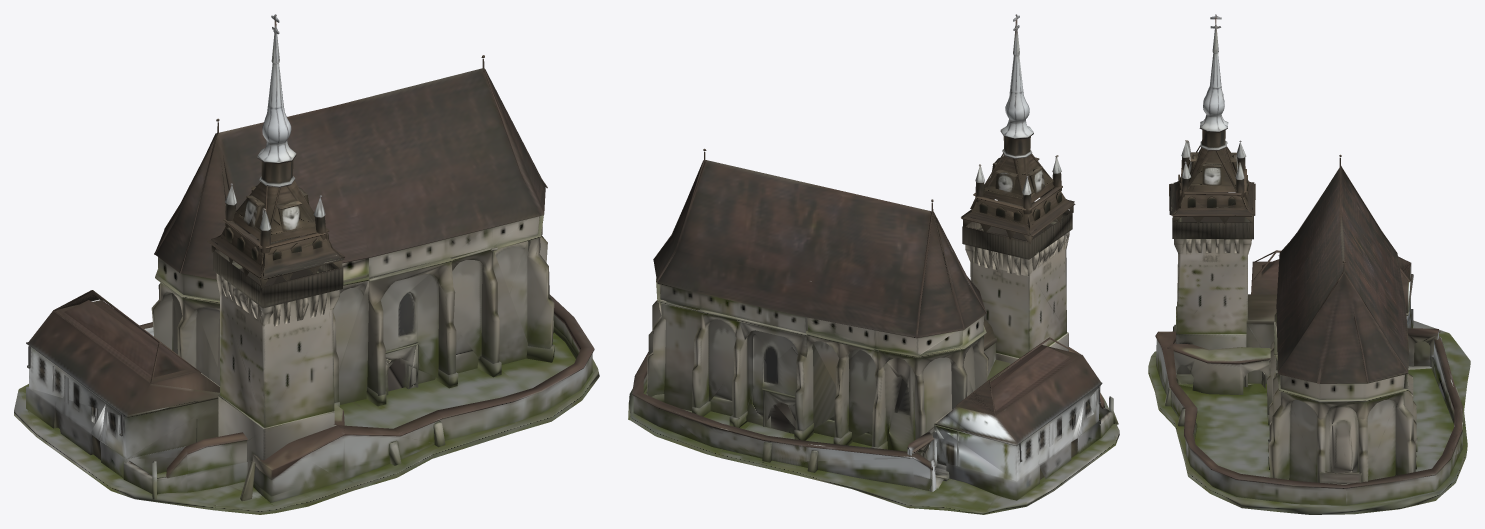
Rendered from saschiz_church.glb.
3 renders of one model, left to right at view 1: azimuth 30°, elevation 25°; view 2: azimuth 150°, elevation 25°; view 3: azimuth 270°, elevation 25°, orthographic. The views are drawn at different scales.
Visible parts, largest first — view 1: geometry_0; view 2: geometry_0; view 3: geometry_0.
Boxes of the visible parts, x1,y1,x2,y2 form: geometry_0: (14,14,599,514); geometry_0: (628,14,1119,514); geometry_0: (1148,14,1470,514).
Bounding box in the file's own units: 0.9556 × 0.8398 × 0.6733.
1 material, 1 textured.
